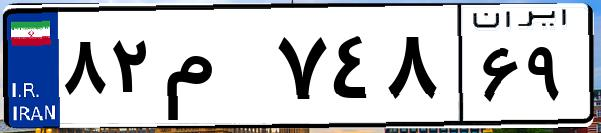2: (110, 28, 158, 98)
4: (330, 28, 385, 110)
6: (475, 38, 525, 113)
7: (270, 28, 330, 110)
8: (385, 28, 445, 110), (57, 26, 110, 100)
9: (525, 38, 570, 115)
م: (158, 20, 270, 120)
